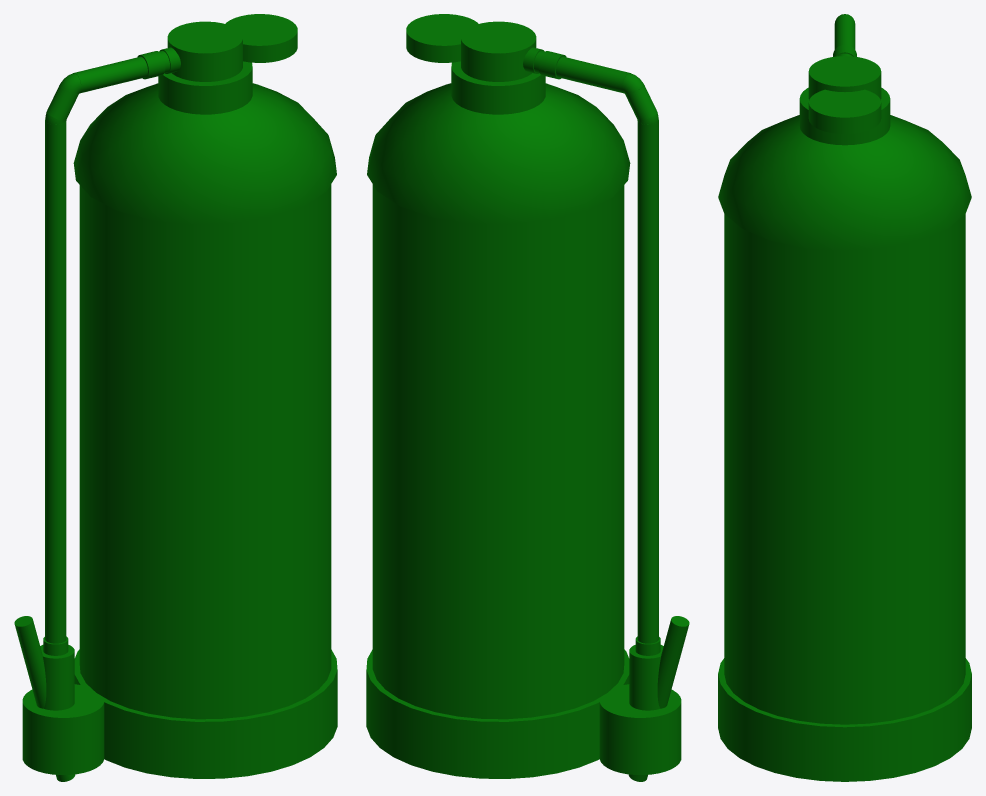
Rendered from Image-1710907665757-2280402207856_76-SE0595.fbx.
3 views of the same model, side by side, from view 1: azimuth 30°, elevation 25°; view 2: azimuth 150°, elevation 25°; view 3: azimuth 270°, elevation 25° (orthographic). The views are drawn at different scales.
Parts seen in each view (by area): view 1: CYLINDER 1 of EQUIPMENT /76-SE0595, DISH 1 of EQUIPMENT /76-SE0595, CYLINDER 15 of EQUIPMENT /76-SE0595, CYLINDER 6 of EQUIPMENT /76-SE0595, CYLINDER 14 of EQUIPMENT /76-SE0595, CYLINDER 3 of EQUIPMENT /76-SE0595, CYLINDER 2 of EQUIPMENT /76-SE0595, CYLINDER 4 of EQUIPMENT /76-SE0595, CYLINDER 10 of EQUIPMENT /76-SE0595, CYLINDER 11 of EQUIPMENT /76-SE0595, CYLINDER 7 of EQUIPMENT /76-SE0595, CYLINDER 8 of EQUIPMENT /76-SE0595; view 2: CYLINDER 1 of EQUIPMENT /76-SE0595, DISH 1 of EQUIPMENT /76-SE0595, CYLINDER 15 of EQUIPMENT /76-SE0595, CYLINDER 6 of EQUIPMENT /76-SE0595, CYLINDER 14 of EQUIPMENT /76-SE0595, CYLINDER 3 of EQUIPMENT /76-SE0595, CYLINDER 2 of EQUIPMENT /76-SE0595, CYLINDER 4 of EQUIPMENT /76-SE0595, CYLINDER 10 of EQUIPMENT /76-SE0595, CYLINDER 11 of EQUIPMENT /76-SE0595, CYLINDER 7 of EQUIPMENT /76-SE0595, CYLINDER 8 of EQUIPMENT /76-SE0595; view 3: CYLINDER 1 of EQUIPMENT /76-SE0595, DISH 1 of EQUIPMENT /76-SE0595, CYLINDER 15 of EQUIPMENT /76-SE0595, CYLINDER 4 of EQUIPMENT /76-SE0595, CYLINDER 3 of EQUIPMENT /76-SE0595, CYLINDER 2 of EQUIPMENT /76-SE0595, CYLINDER 7 of EQUIPMENT /76-SE0595.
Part boxes in pixels (x1,y1,x2,y2): CYLINDER 1 of EQUIPMENT /76-SE0595: (79,184,331,719); DISH 1 of EQUIPMENT /76-SE0595: (73,83,336,224); CYLINDER 15 of EQUIPMENT /76-SE0595: (74,649,337,778); CYLINDER 6 of EQUIPMENT /76-SE0595: (45,120,66,643); CYLINDER 14 of EQUIPMENT /76-SE0595: (22,684,104,774); CYLINDER 3 of EQUIPMENT /76-SE0595: (167,21,242,81); CYLINDER 2 of EQUIPMENT /76-SE0595: (158,61,252,114); CYLINDER 4 of EQUIPMENT /76-SE0595: (225,14,297,62); CYLINDER 10 of EQUIPMENT /76-SE0595: (40,645,74,710); CYLINDER 11 of EQUIPMENT /76-SE0595: (14,616,75,781); CYLINDER 7 of EQUIPMENT /76-SE0595: (73,56,147,93); CYLINDER 8 of EQUIPMENT /76-SE0595: (46,85,78,121); CYLINDER 1 of EQUIPMENT /76-SE0595: (372,184,624,719); DISH 1 of EQUIPMENT /76-SE0595: (367,83,630,224); CYLINDER 15 of EQUIPMENT /76-SE0595: (366,649,629,778); CYLINDER 6 of EQUIPMENT /76-SE0595: (637,120,658,643); CYLINDER 14 of EQUIPMENT /76-SE0595: (599,684,681,774); CYLINDER 3 of EQUIPMENT /76-SE0595: (461,21,536,81); CYLINDER 2 of EQUIPMENT /76-SE0595: (451,61,545,114); CYLINDER 4 of EQUIPMENT /76-SE0595: (406,14,478,62); CYLINDER 10 of EQUIPMENT /76-SE0595: (629,645,663,710); CYLINDER 11 of EQUIPMENT /76-SE0595: (628,616,689,781); CYLINDER 7 of EQUIPMENT /76-SE0595: (556,56,630,93); CYLINDER 8 of EQUIPMENT /76-SE0595: (625,85,657,121); CYLINDER 1 of EQUIPMENT /76-SE0595: (724,214,965,724); DISH 1 of EQUIPMENT /76-SE0595: (718,115,971,250); CYLINDER 15 of EQUIPMENT /76-SE0595: (718,658,971,781); CYLINDER 4 of EQUIPMENT /76-SE0595: (808,89,881,133); CYLINDER 3 of EQUIPMENT /76-SE0595: (808,56,881,100); CYLINDER 2 of EQUIPMENT /76-SE0595: (799,87,890,145); CYLINDER 7 of EQUIPMENT /76-SE0595: (834,15,855,49).
Size of the model in its own units: 0.2787 by 0.21 by 0.6189.
